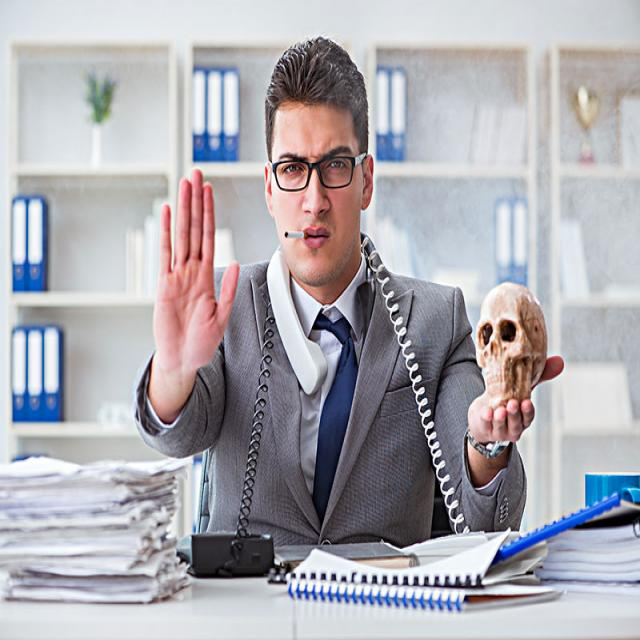smoking: (283, 228, 308, 240)
